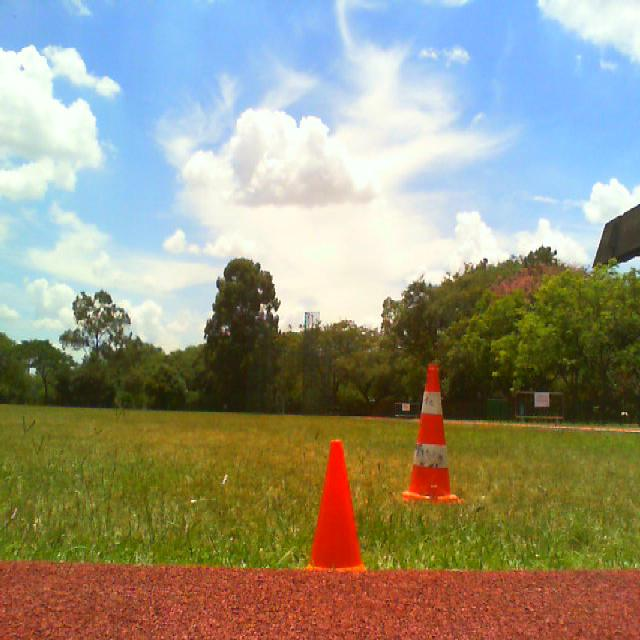cone: (398, 361, 460, 503), (305, 439, 364, 572)
